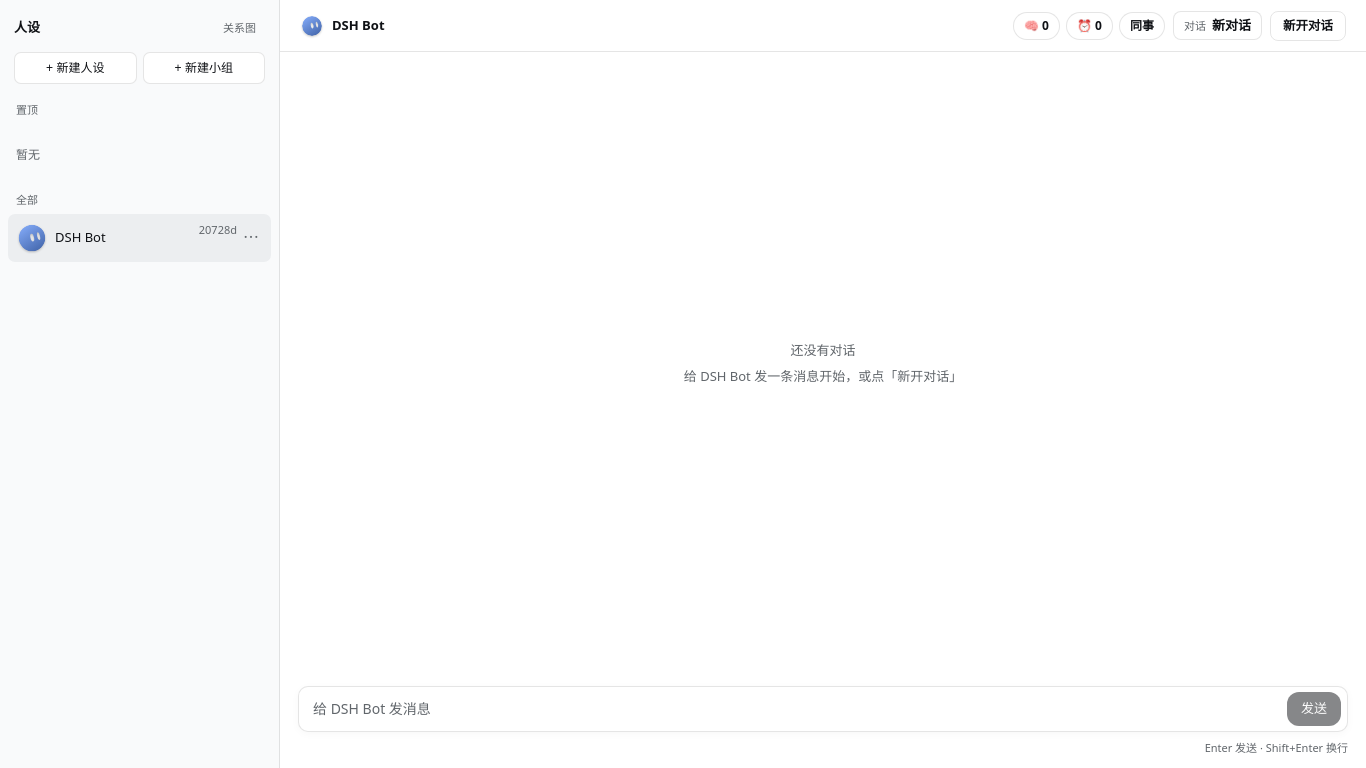
Scenario: App roster load › shows an unsent composer draft on the selected roster row
Type "草稿给DSH Bot不发送" into the text box with test id "composer-input". click: (794, 708)
box: [305, 690, 1283, 726]
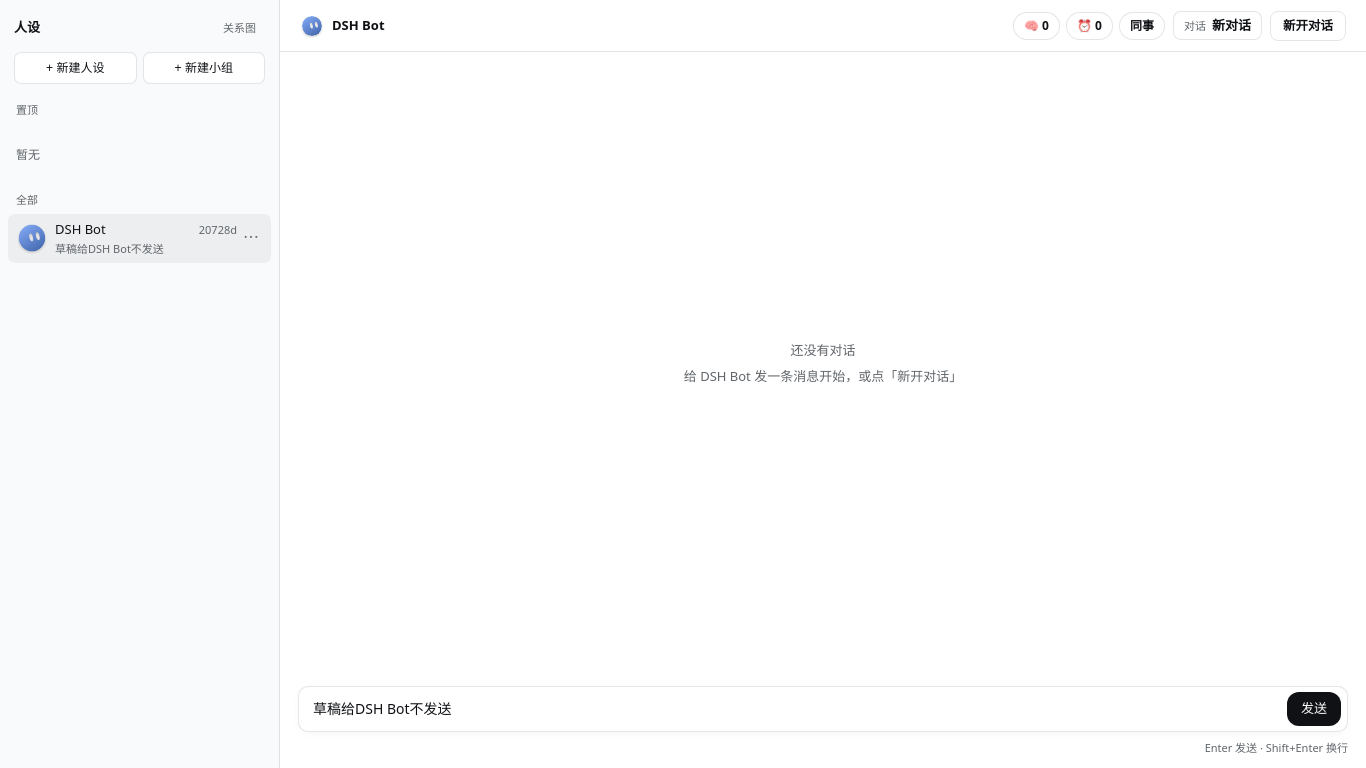
expect the text with test id "roster-preview-dsh-bot" reads "草稿给DSH Bot不发送": met, box [55, 240, 164, 256]
